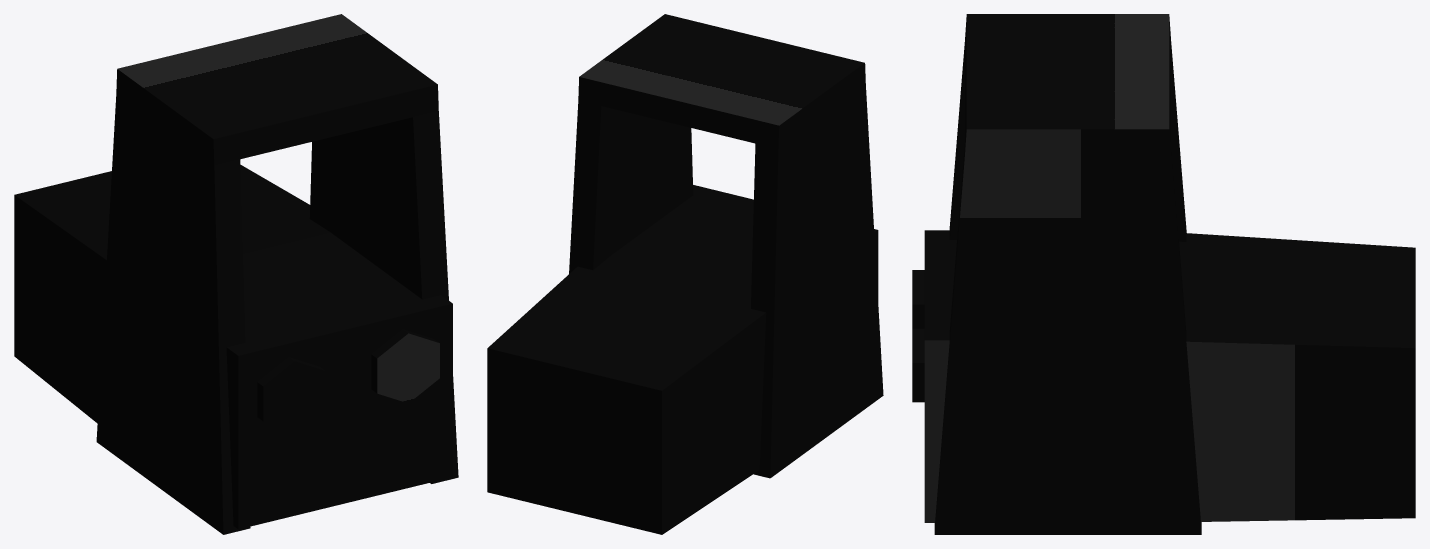
3 renders of one model, left to right at view 1: azimuth 30°, elevation 25°; view 2: azimuth 150°, elevation 25°; view 3: azimuth 270°, elevation 25°, orthographic. The views are drawn at different scales.
Parts seen in each view (by area): view 1: Model_0; view 2: Model_0; view 3: Model_0.
Boxes of the visible parts, x1,y1,x2,y2 form: Model_0: (14,14,458,534); Model_0: (487,14,883,534); Model_0: (912,14,1415,534).
Size of the model in its own units: 0.0832 by 0.1296 by 0.1467.
